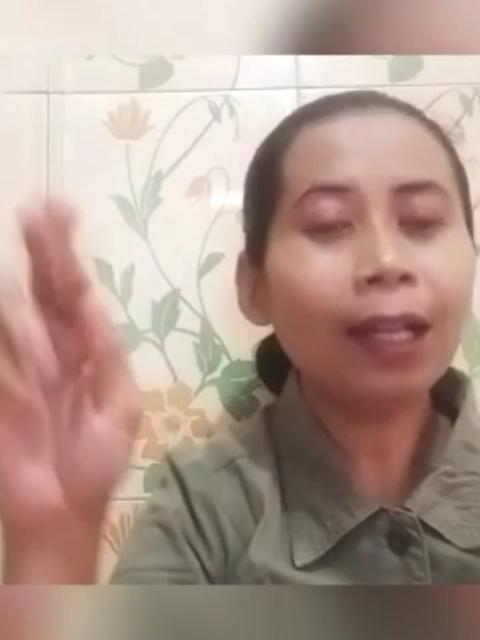R: (0, 198, 148, 520)
